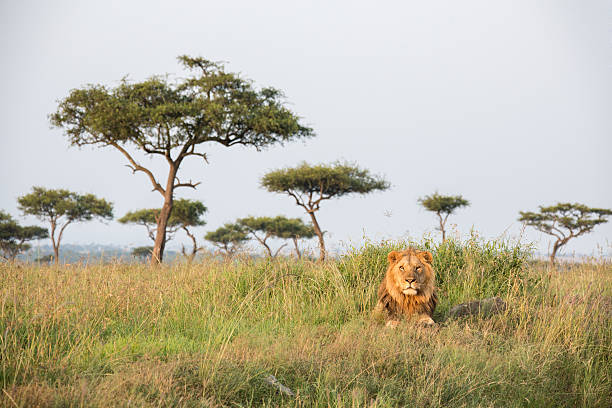lion: (381, 239, 438, 324)
